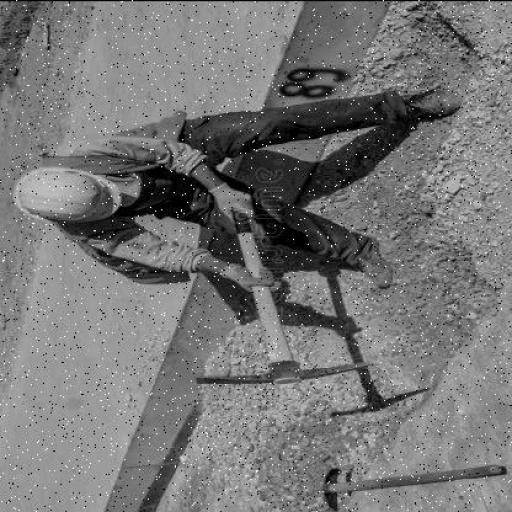person: (15, 78, 463, 317)
safety_shoe: (351, 232, 391, 289), (400, 85, 462, 117)
